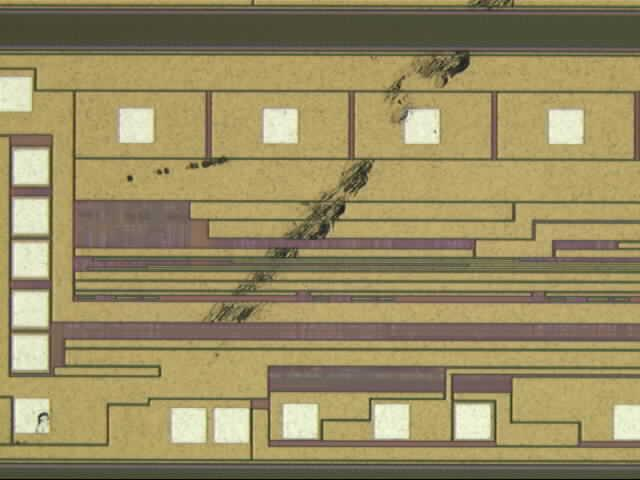SCRATCH: (122, 1, 519, 379)
